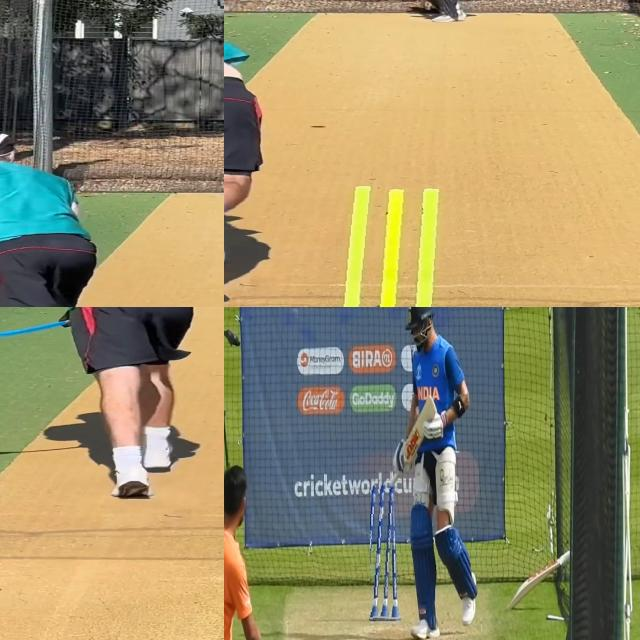Stumps: (335, 184, 464, 307), (370, 483, 398, 621)
